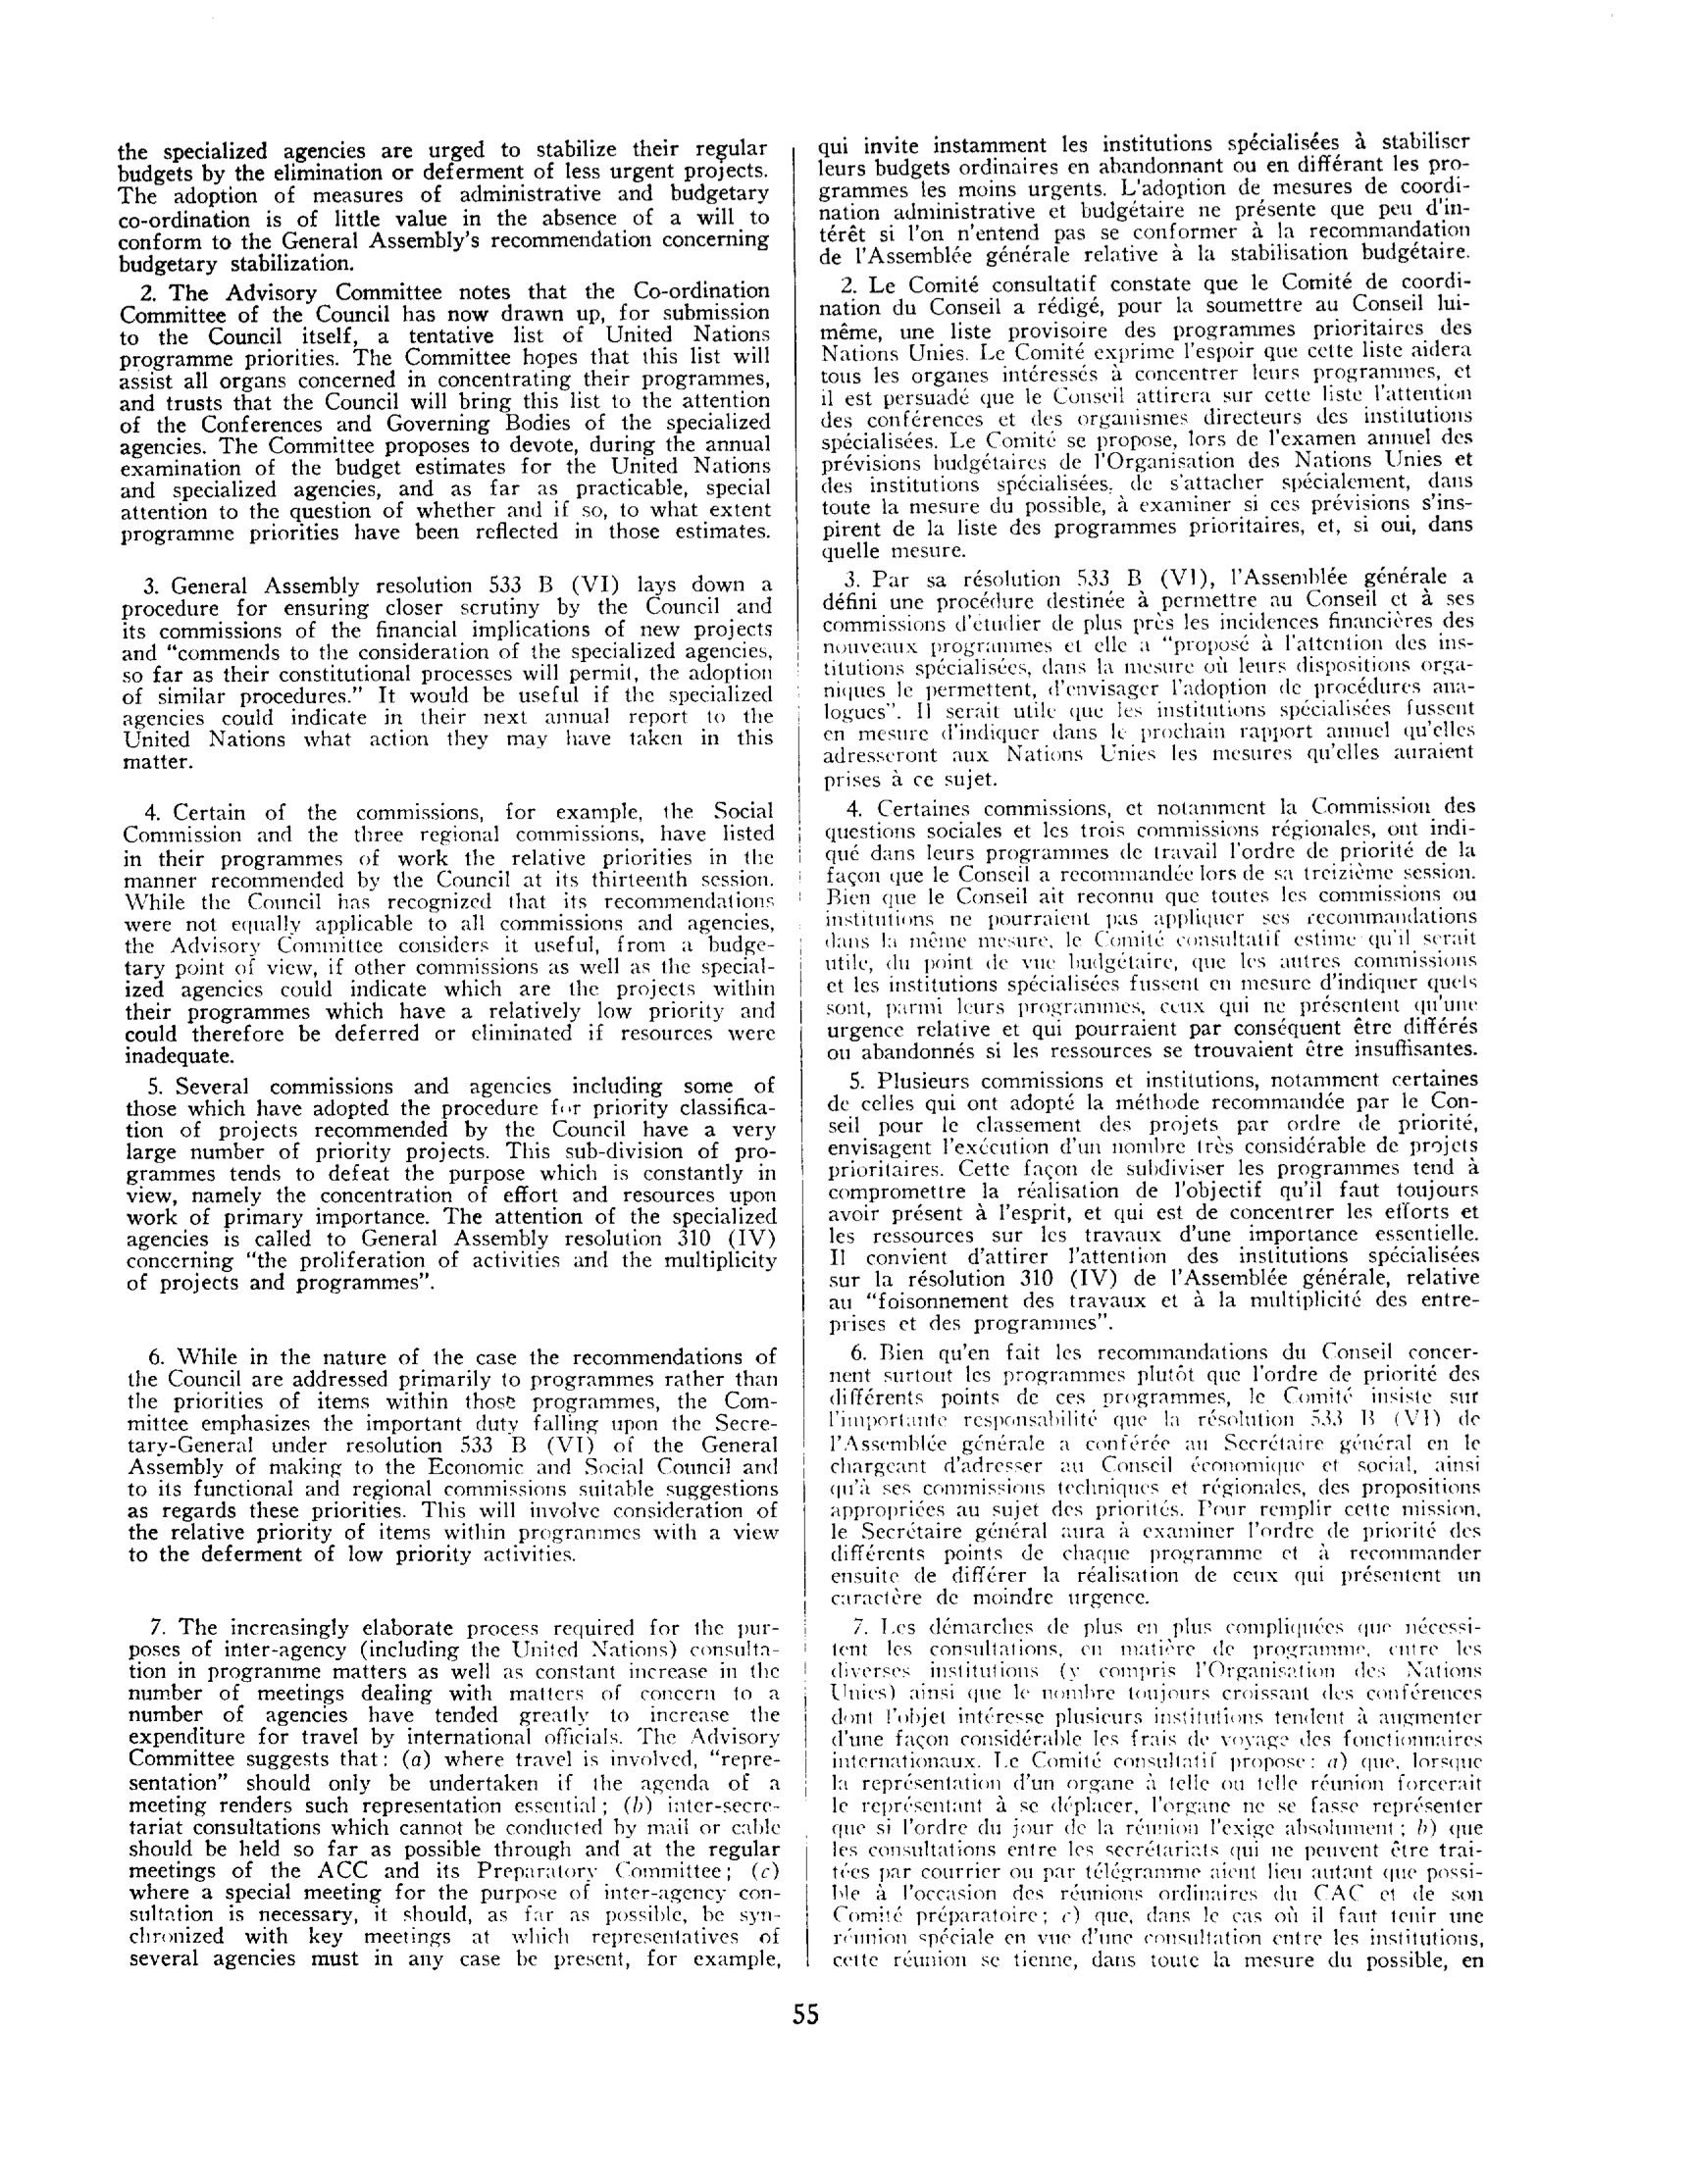MainZone-Continued: (110, 135, 772, 277), (807, 128, 1476, 268)
MainZone-ListItem: (119, 1610, 789, 1982), (825, 1611, 1494, 1978), (812, 269, 1479, 564), (112, 275, 775, 551), (117, 794, 782, 1069), (821, 1065, 1488, 1338), (818, 794, 1485, 1064), (823, 1338, 1488, 1608), (119, 1338, 786, 1571), (816, 564, 1483, 791), (119, 1071, 784, 1298), (115, 567, 780, 778)
TitlePageZone: (788, 1998, 823, 2035)
